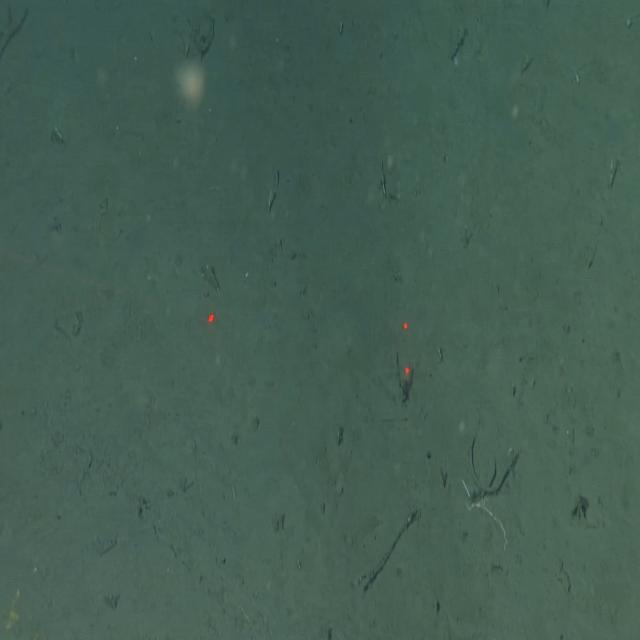Brittle Star: (458, 437, 516, 554)
